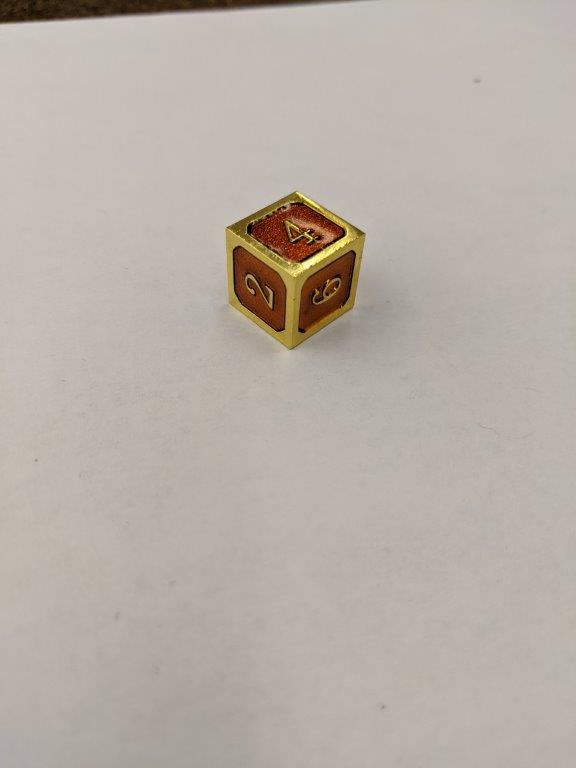d6-4: (224, 190, 364, 347)
